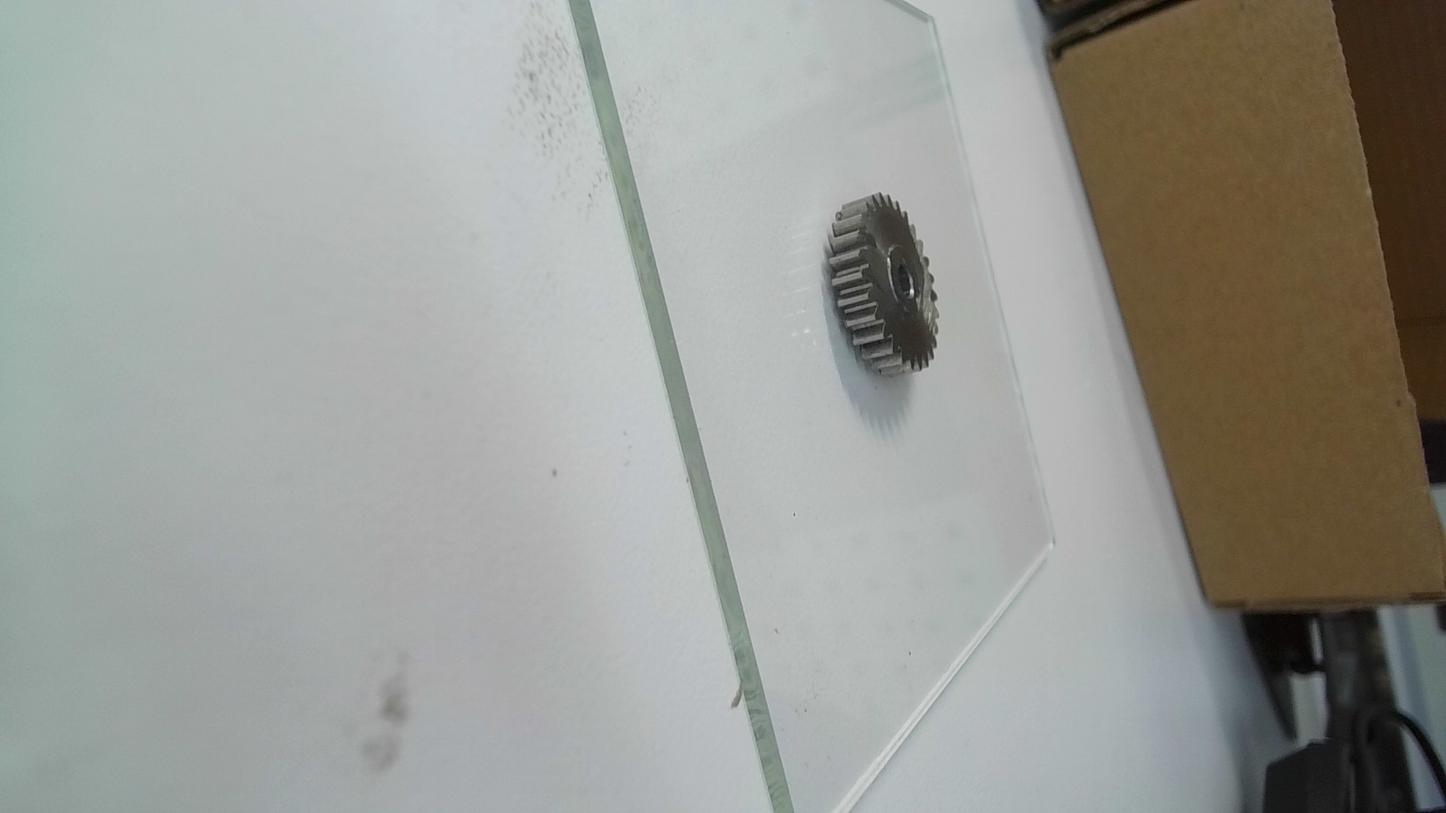gear: (827, 183, 939, 383)
